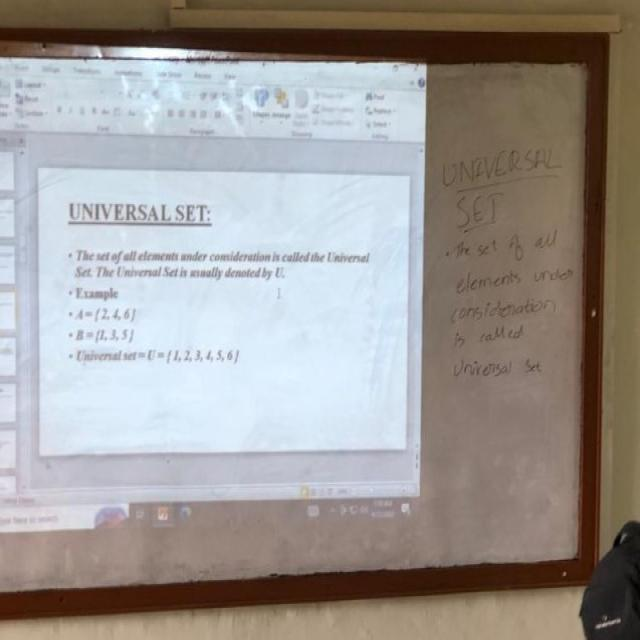Slide: (0, 55, 429, 544)
White-board: (0, 39, 605, 620)
